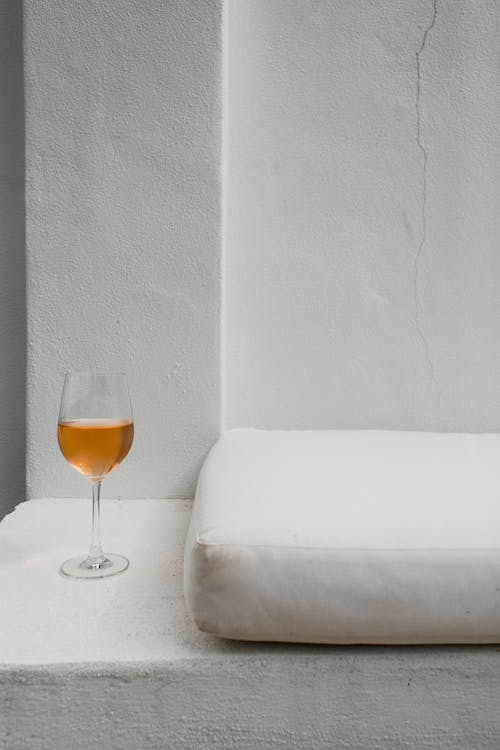alcohol: (53, 365, 137, 584)
